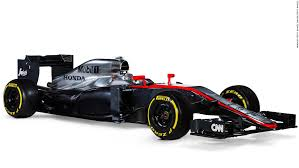FormulaOneCar: (4, 50, 299, 149)
